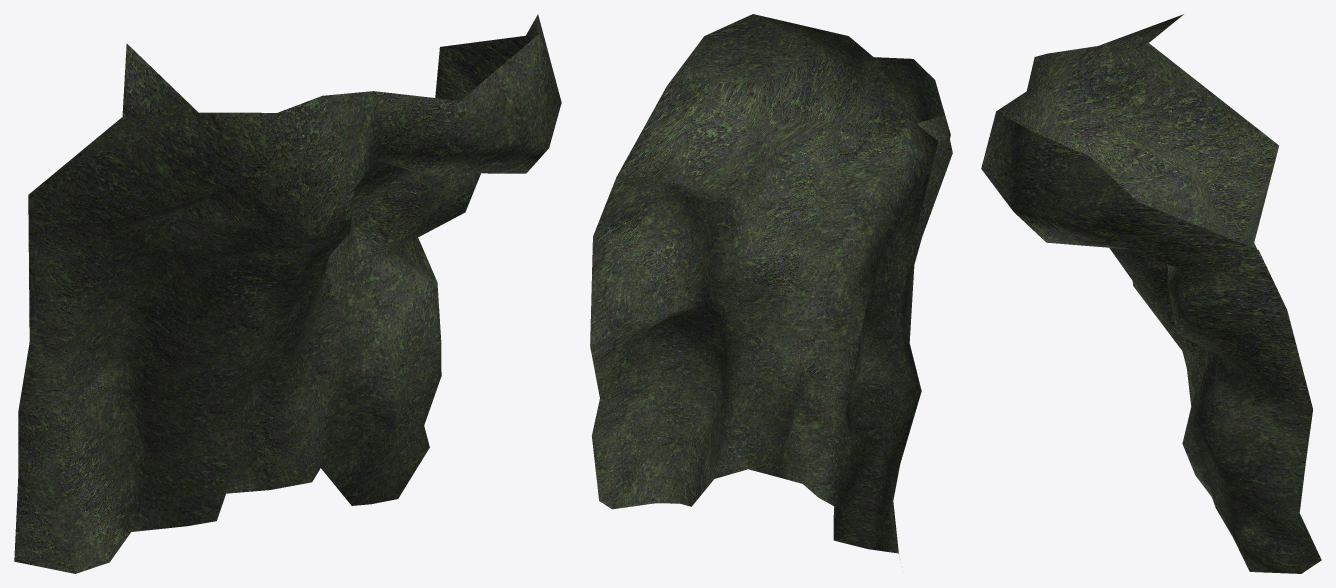
File: cliff_wall_00_lod_01.fbx
3 views of the same model, side by side, from view 1: azimuth 30°, elevation 25°; view 2: azimuth 150°, elevation 25°; view 3: azimuth 270°, elevation 25° (orthographic). The views are drawn at different scales.
Visible parts, largest first — view 1: cliff_wall_00; view 2: cliff_wall_00; view 3: cliff_wall_00.
Part boxes in pixels (x1,y1,x2,y2): cliff_wall_00: [14, 14, 561, 573]; cliff_wall_00: [590, 14, 952, 559]; cliff_wall_00: [981, 14, 1321, 573].
Bounding box in the file's own units: 75.92 × 96.09 × 67.39.
